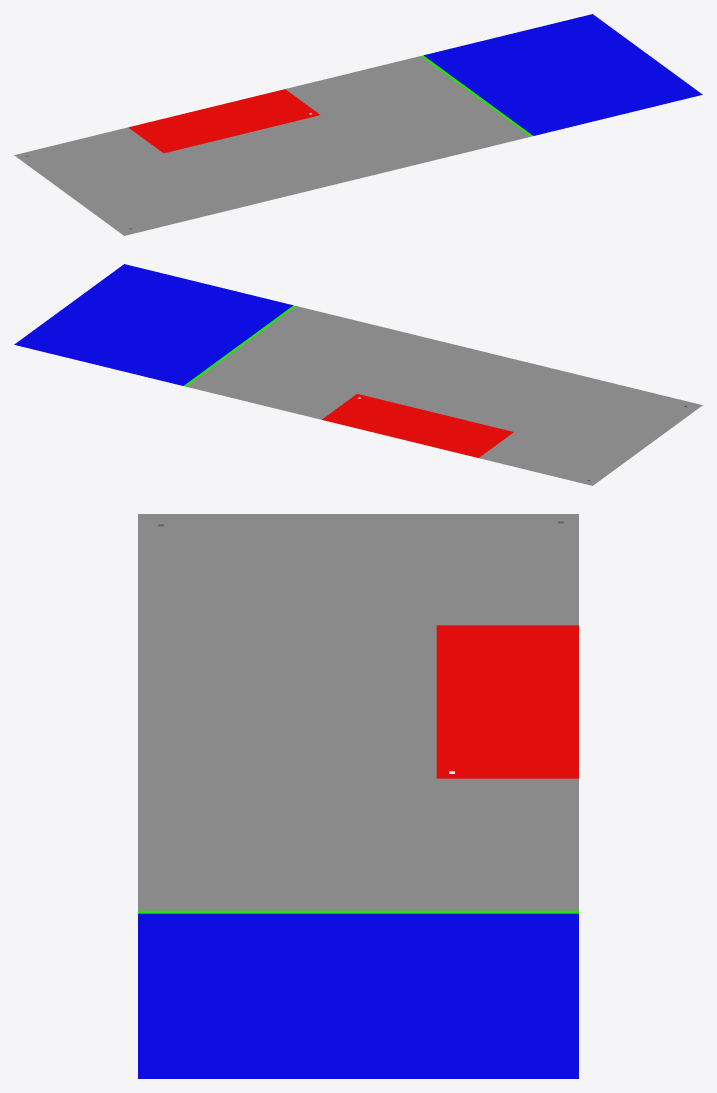
File: Floor.fbx
3 views of the same model, one above another, from view 1: azimuth 30°, elevation 25°; view 2: azimuth 150°, elevation 25°; view 3: azimuth 270°, elevation 25° (orthographic). The views are drawn at different scales.
Visible parts, largest first — view 1: Floor; view 2: Floor; view 3: Floor.
Part boxes in pixels (x1,y1,x2,y2): Floor: (14, 14, 702, 235); Floor: (14, 264, 702, 485); Floor: (138, 514, 578, 1078).
Size of the model in its own units: 23886 by 41.9 by 7886.
